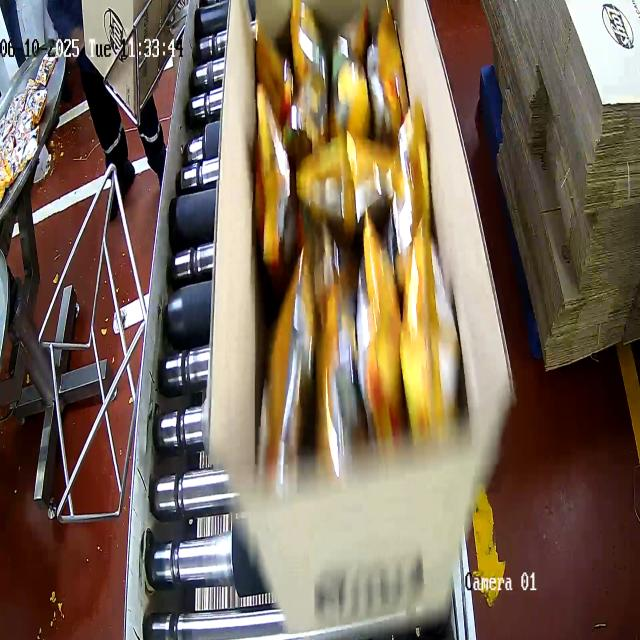FRENCH_CHEESE: (252, 10, 449, 458)
